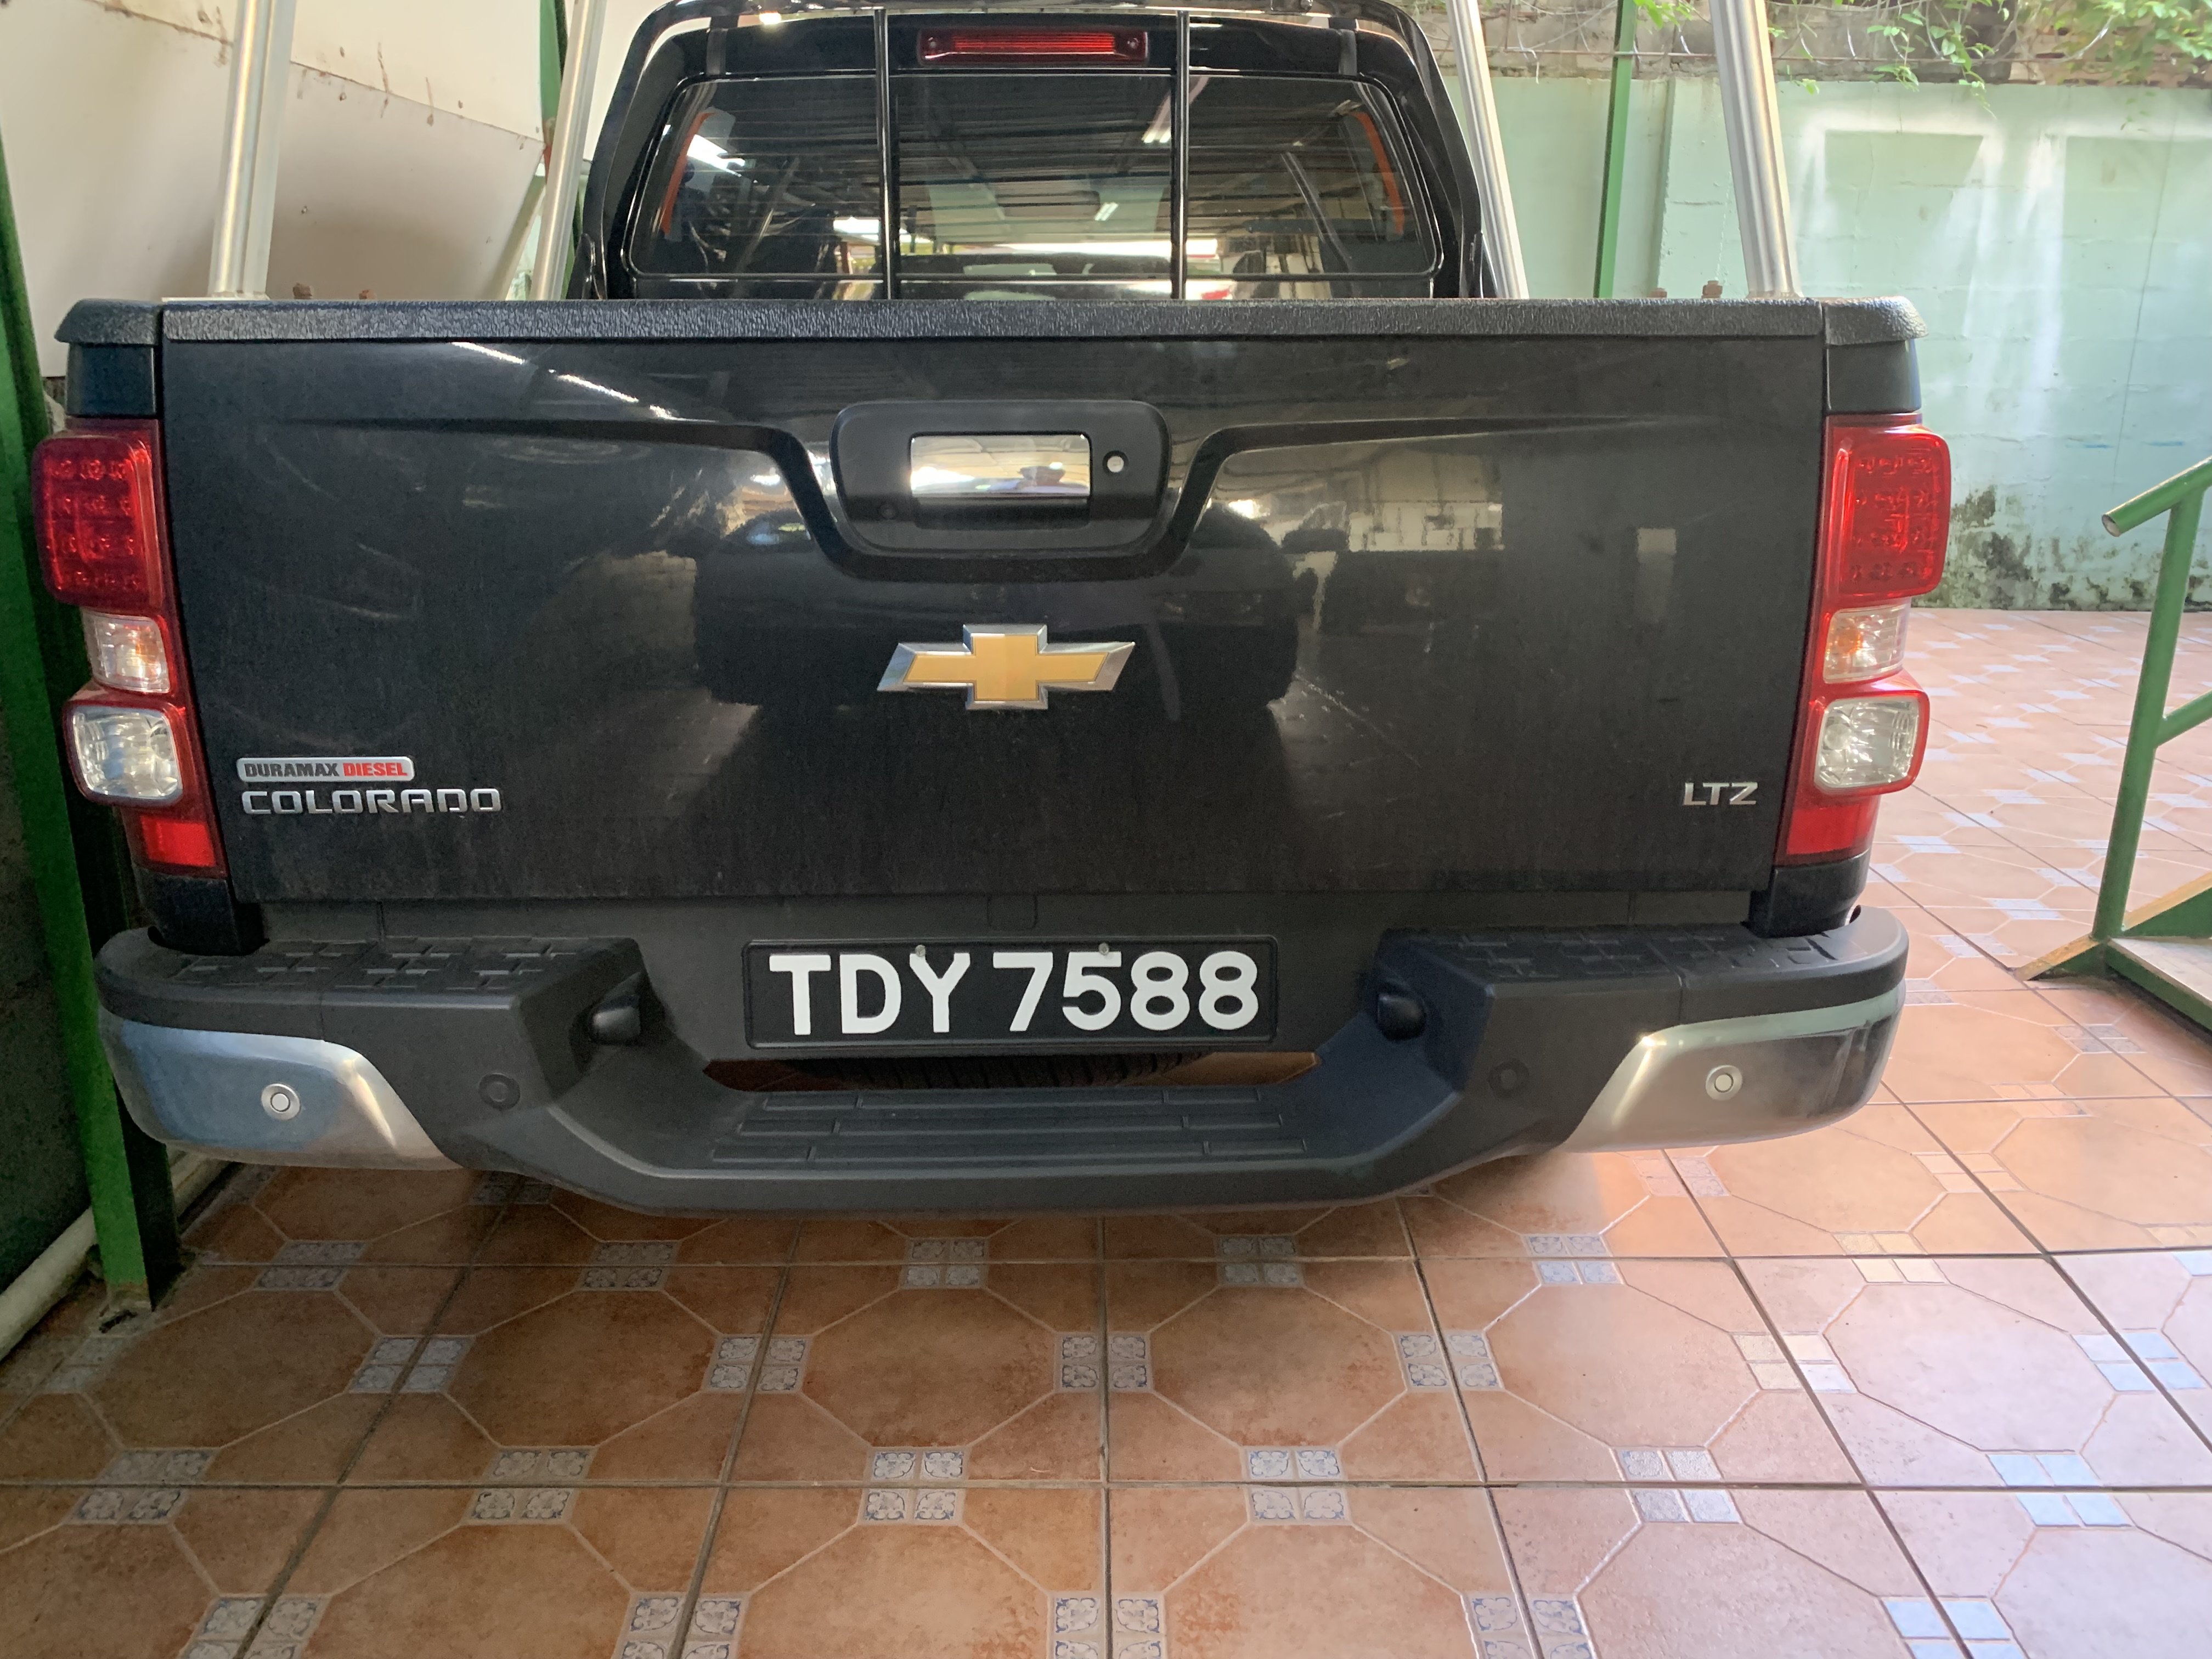License-Plate: (737, 936, 1284, 1053)
